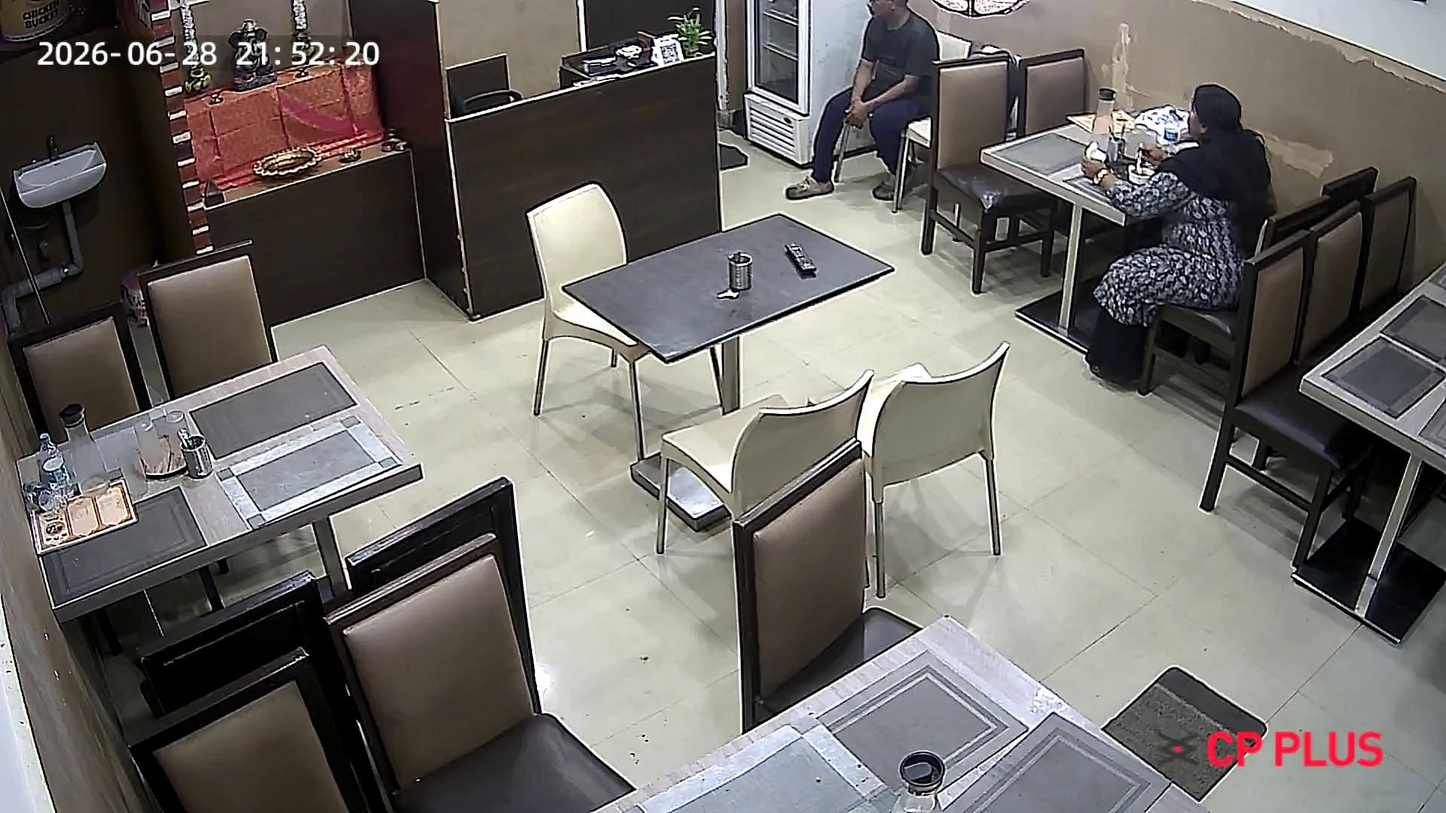clean: (614, 624, 1182, 813), (561, 208, 898, 357), (1310, 314, 1446, 464)
dirty: (13, 331, 431, 606)
occupied: (987, 86, 1320, 254)
